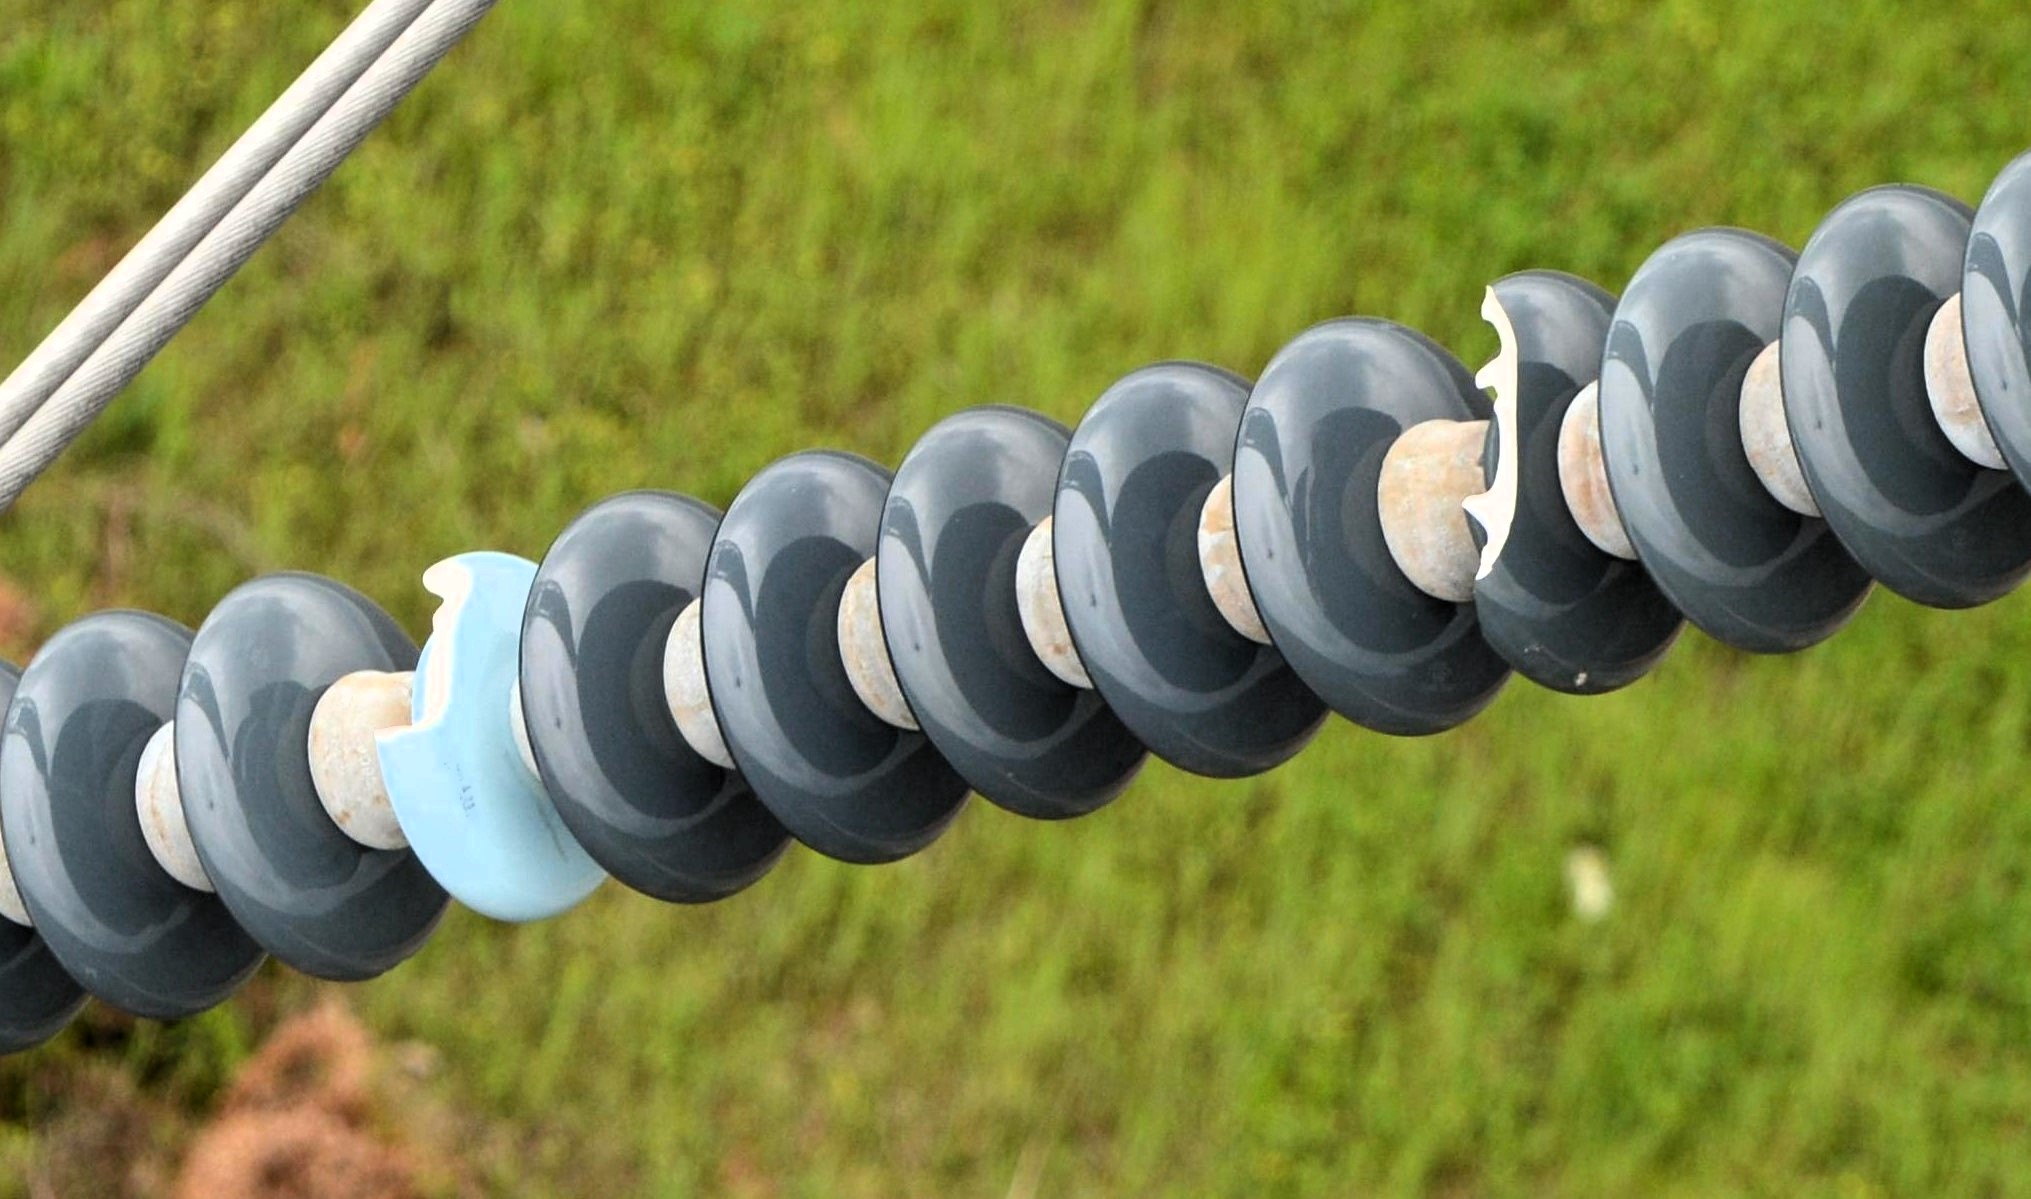insulator breakage: (1450, 246, 1710, 699), (365, 531, 617, 925)
